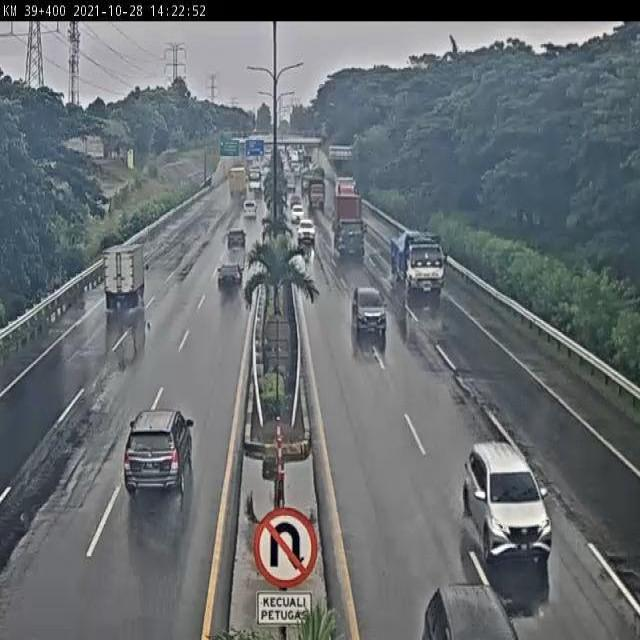car: (123, 407, 195, 493)
truck-l-: (390, 229, 448, 296)
truck-m-: (103, 243, 151, 312)
truck-xl-: (333, 194, 368, 262)
